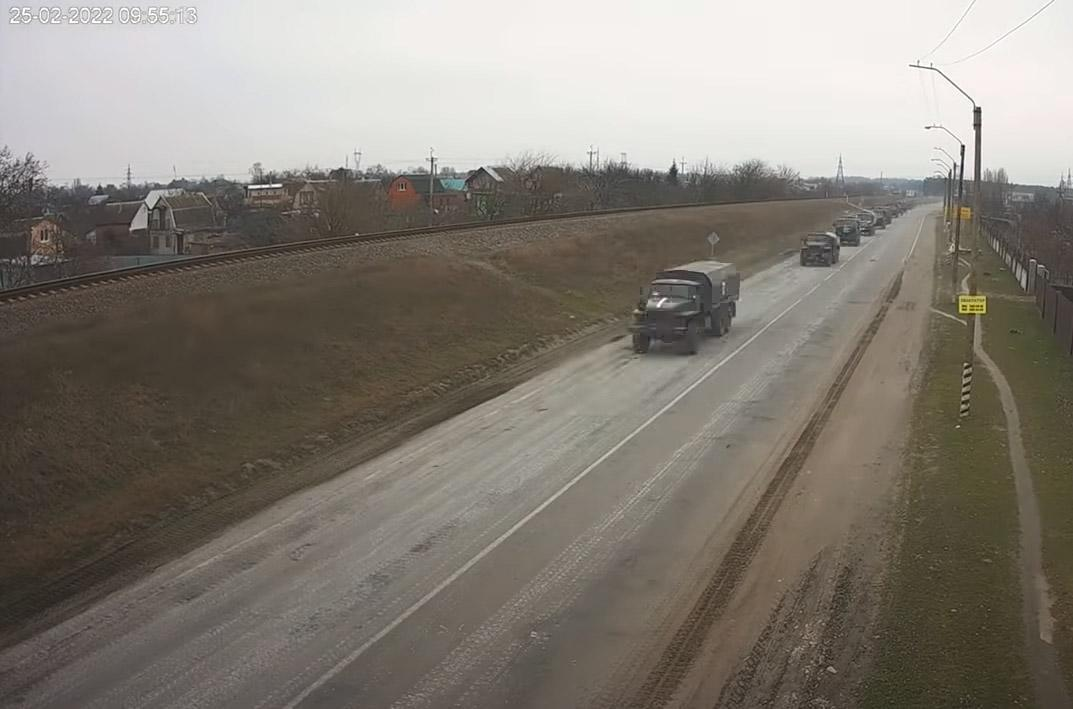truck: (626, 256, 742, 362), (795, 232, 840, 272), (826, 213, 864, 248)
